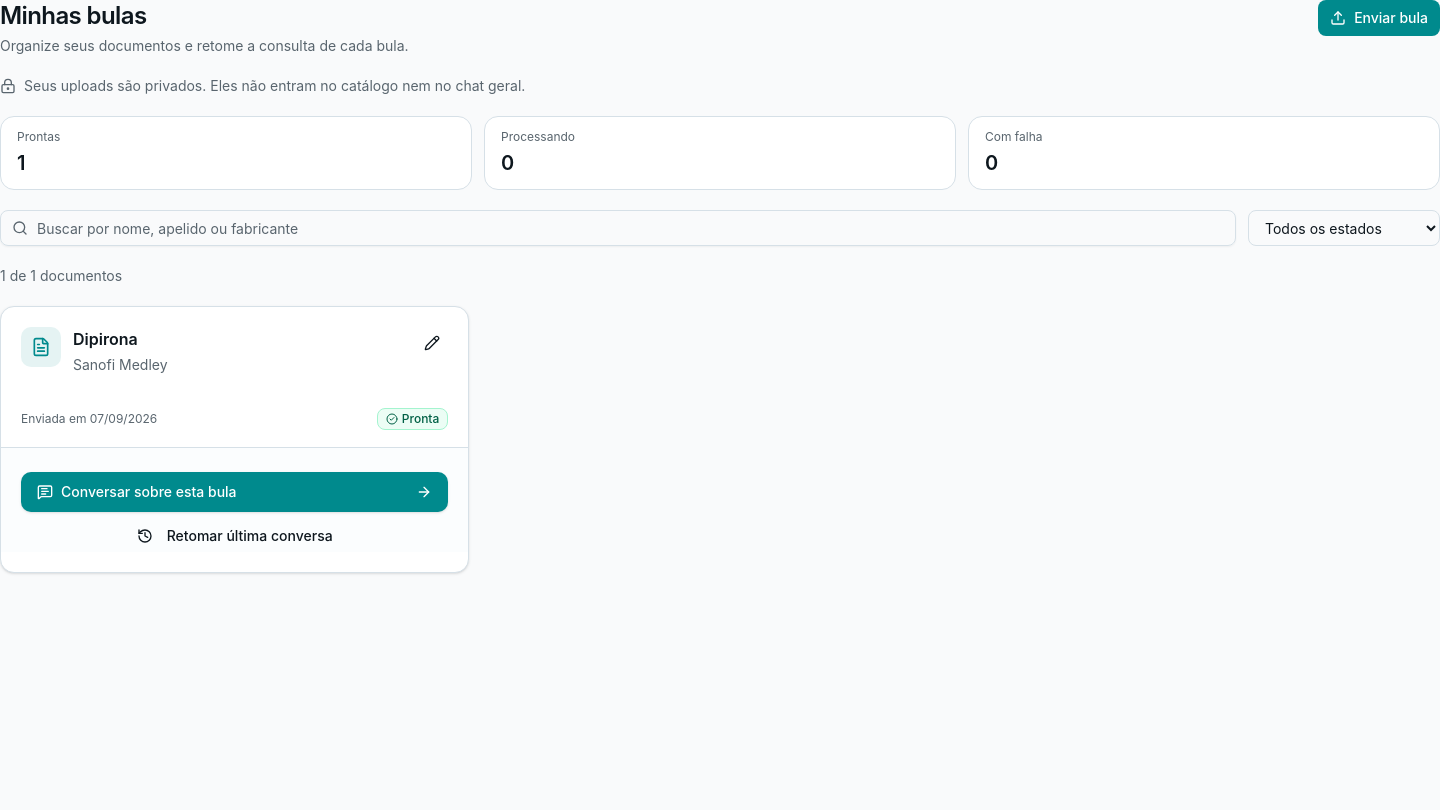
Test case: UserBulaSection › saves and clears a personal alias without changing the official product name
The image size is (1440, 810).
Click the button named "Editar apelido de Dipirona" at (432, 343), box [416,327,448,359]
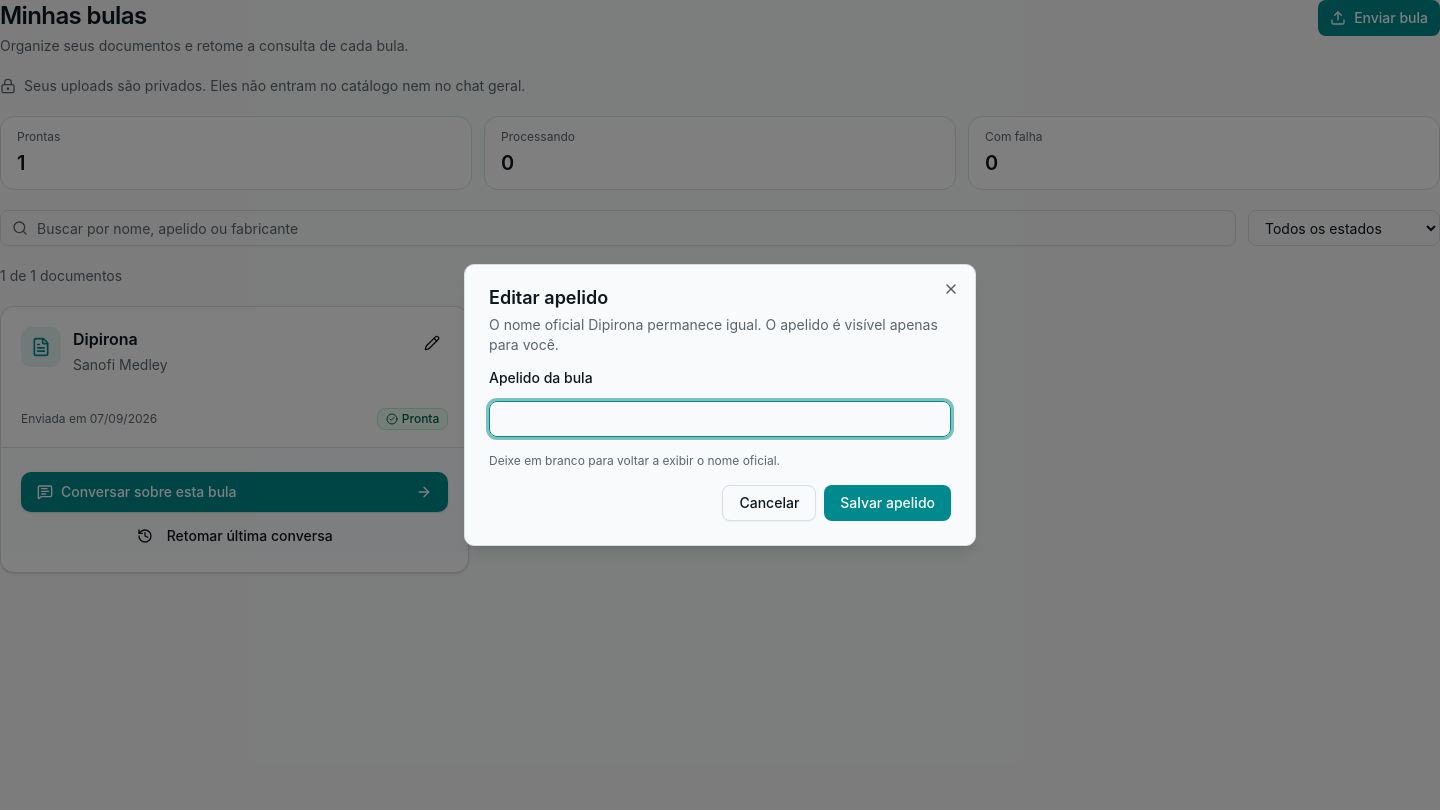
Type "Remédio de casa" into the field labelled "Apelido da bula" at (720, 419), box [489,401,951,437]
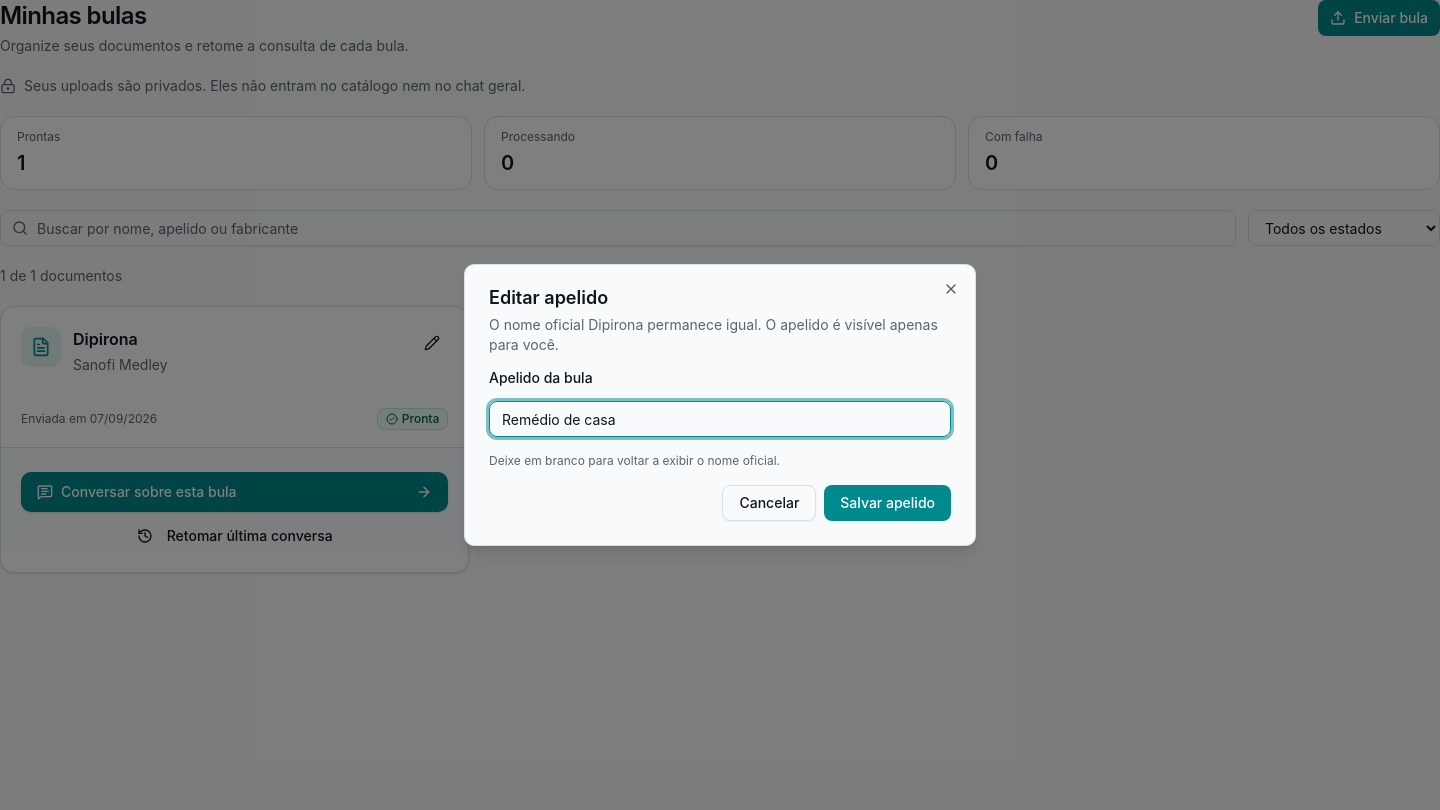
Click the button "Salvar apelido" at (888, 503), box [824,485,951,521]
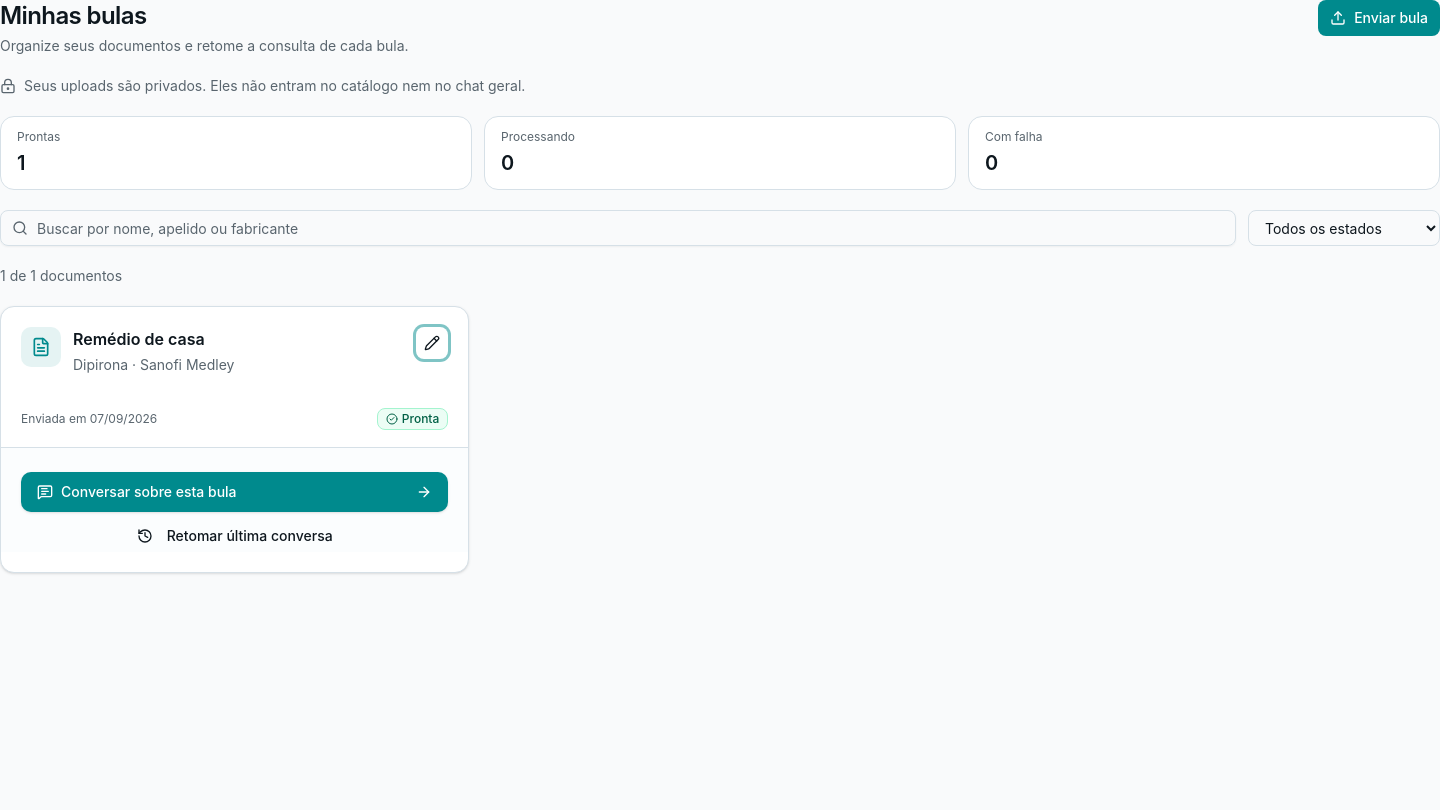
Expected: the heading "Remédio de casa" is shown, [73,329,205,349]
Expected: the dialog is gone
Expected: the text "Dipirona · Sanofi Medley" is shown, [73,356,234,373]
Click the button named "Editar apelido de Remédio de casa" at (432, 343), box [416,327,448,359]
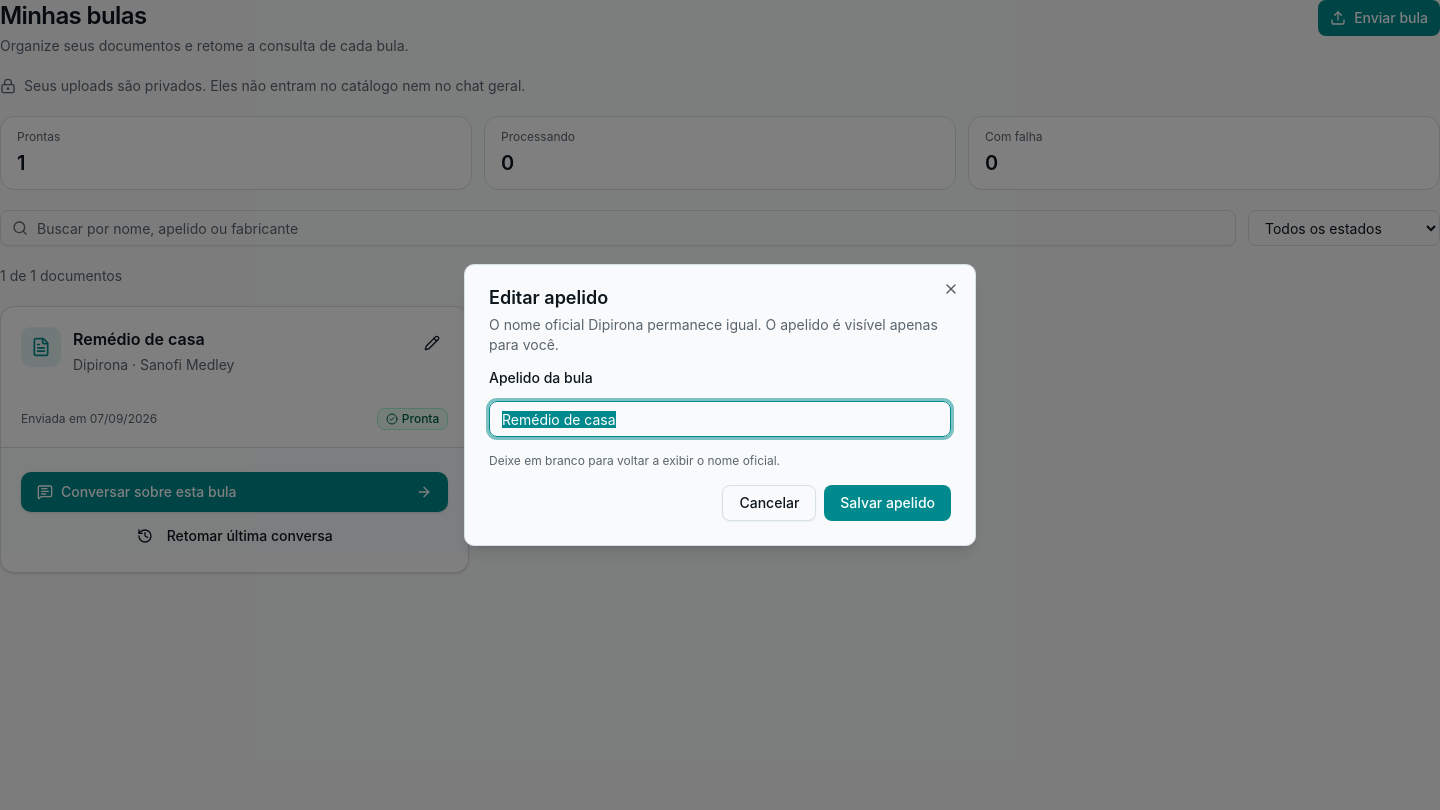
Clear the field labelled "Apelido da bula" at (720, 419), box [489,401,951,437]
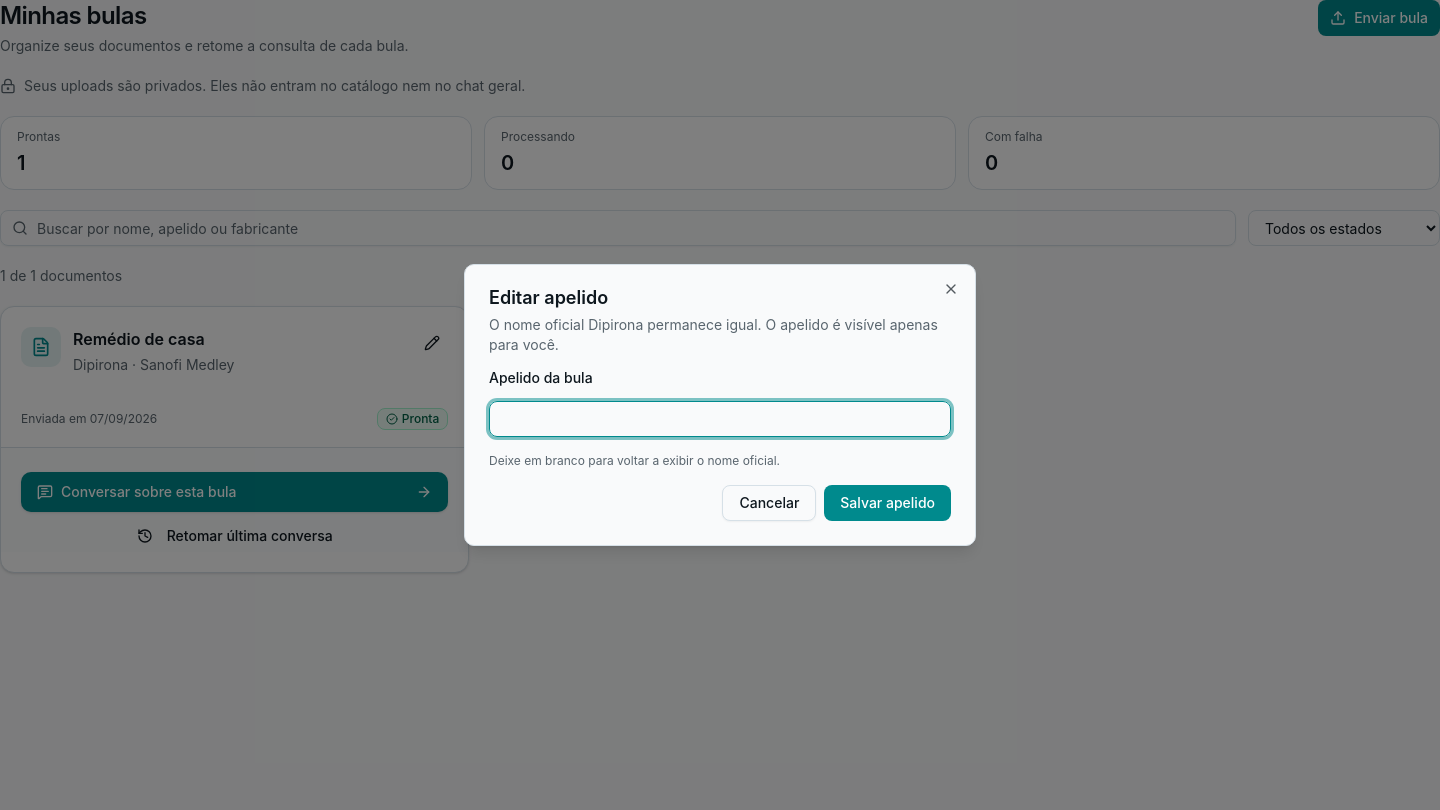
Click the button "Salvar apelido" at (888, 503), box [824,485,951,521]
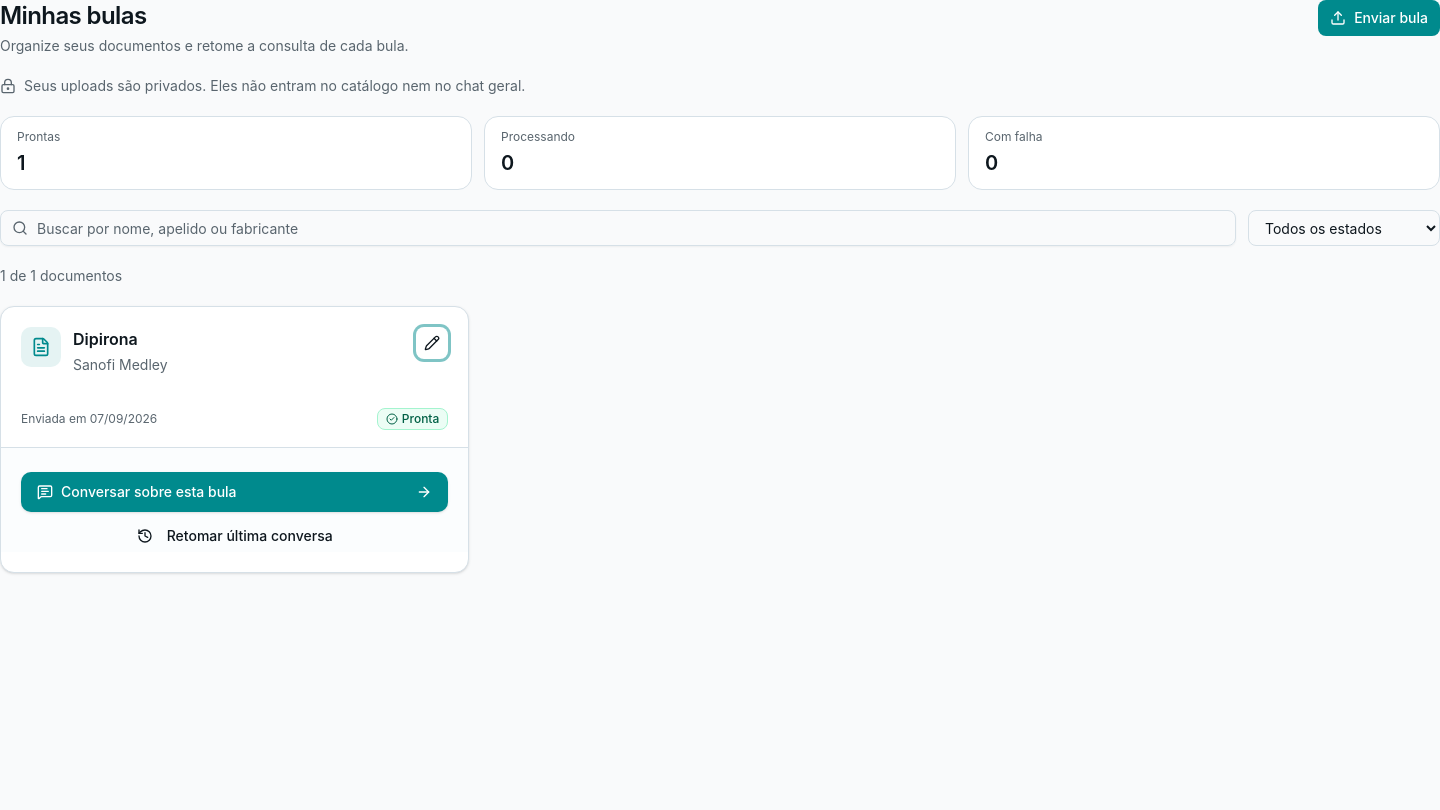
Expected: the heading "Dipirona" is shown, [73,329,138,349]
